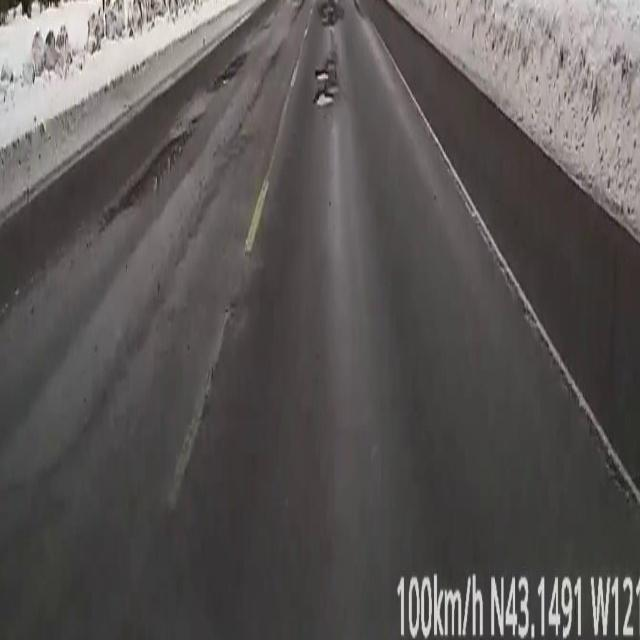pothole: (122, 127, 195, 211), (212, 52, 247, 88), (322, 0, 342, 24), (314, 90, 334, 106), (316, 70, 328, 80)
